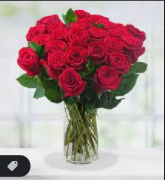RedRose: (55, 66, 86, 97), (95, 64, 124, 96), (17, 47, 42, 74), (85, 37, 109, 60), (66, 23, 91, 45)
